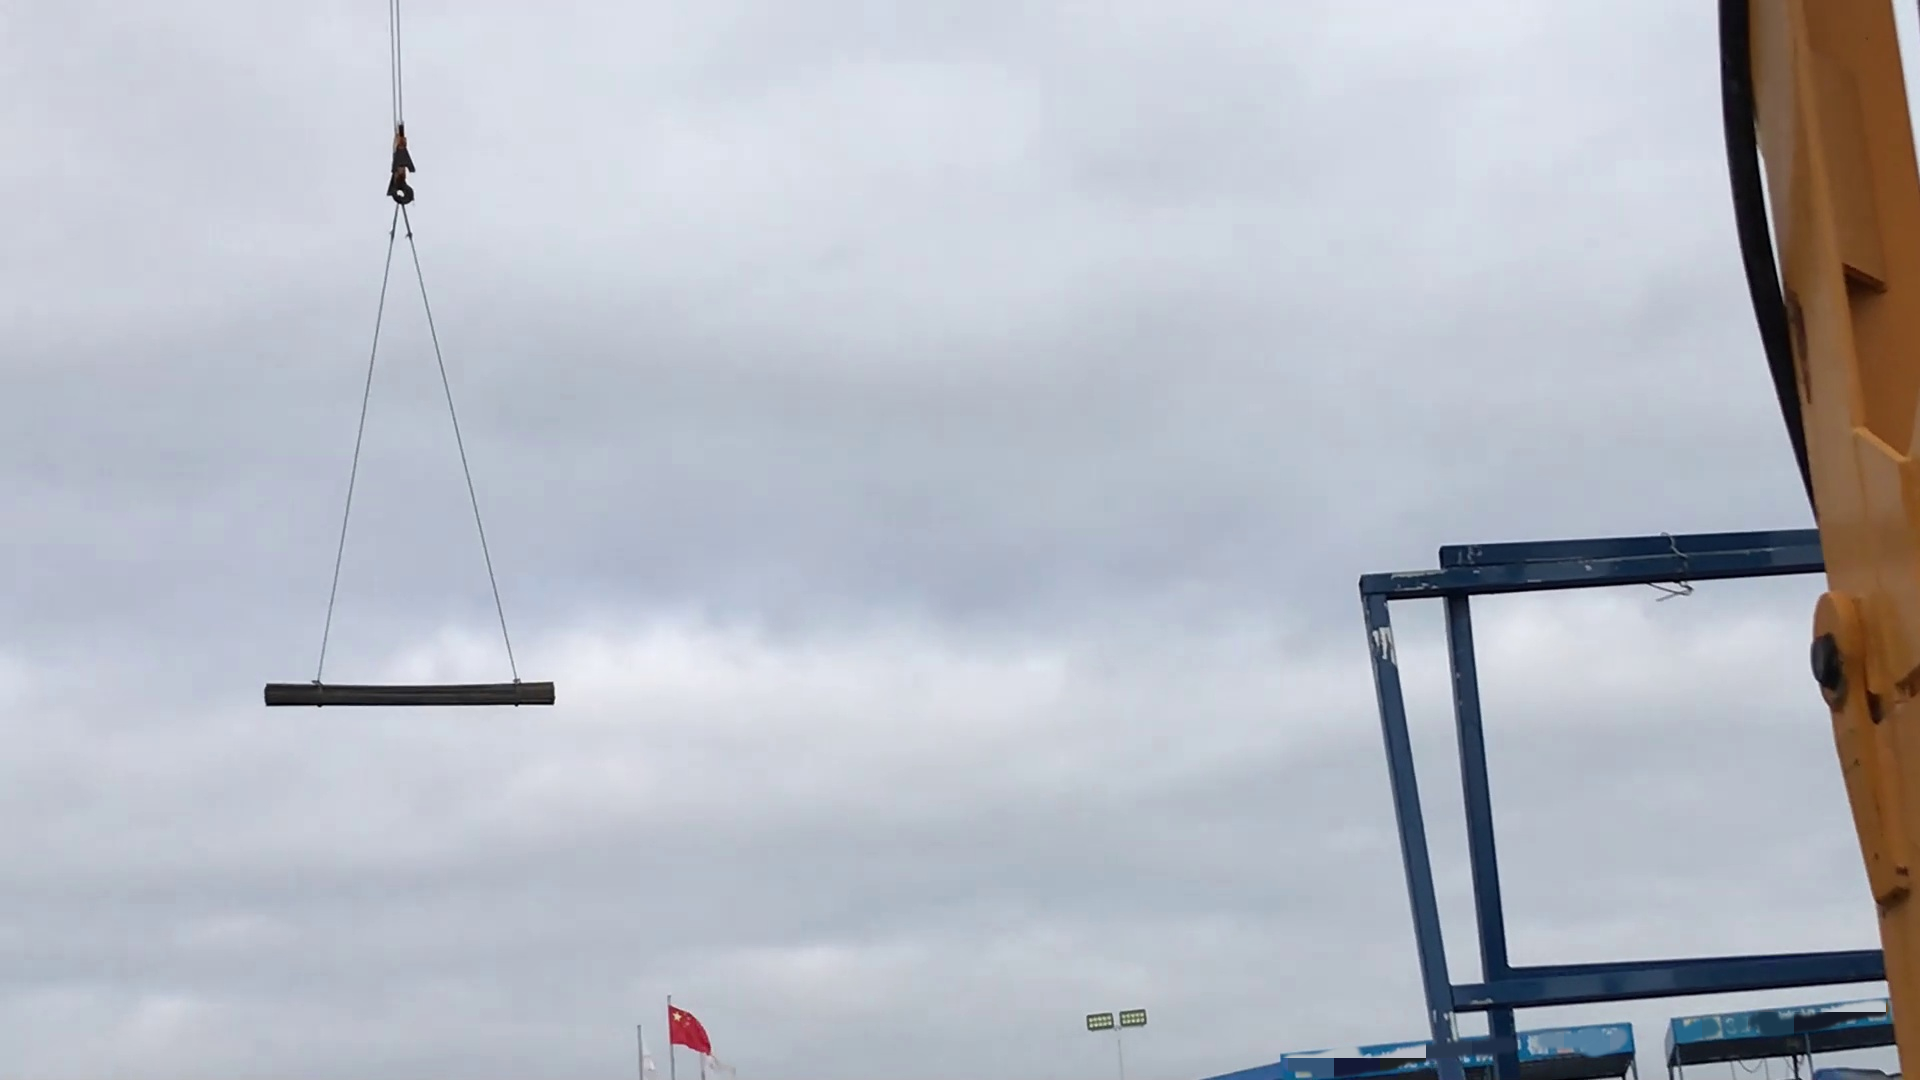rebar: (258, 673, 568, 717)
